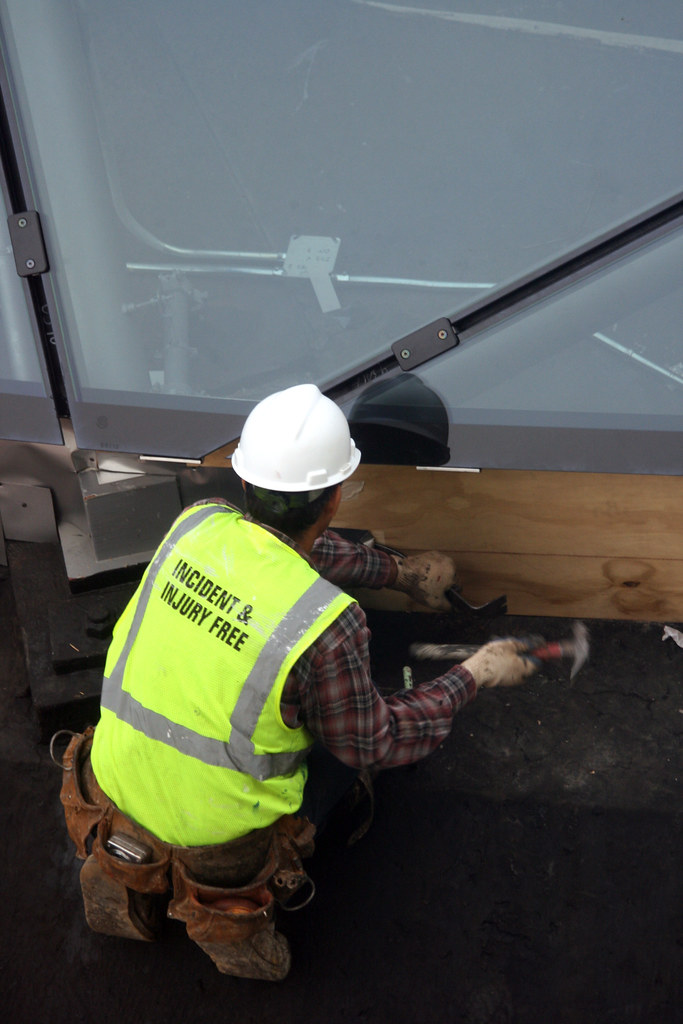Hard Hat: (221, 391, 358, 549)
Person: (60, 390, 533, 983)
Vest: (91, 475, 323, 838)
